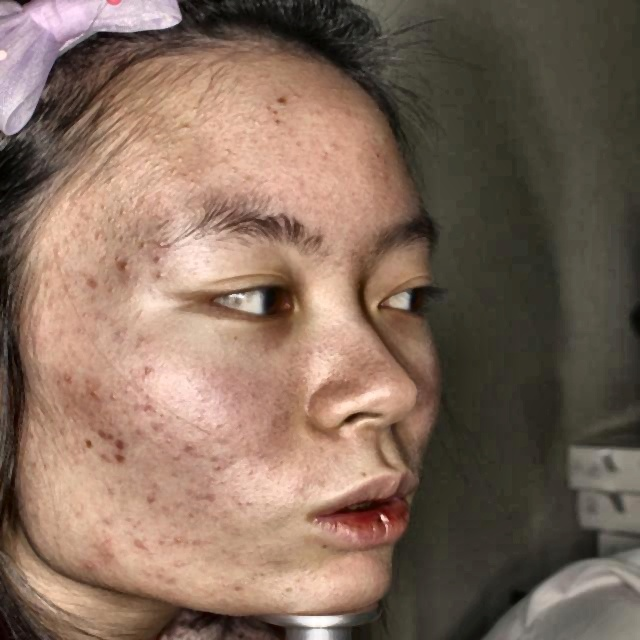comedone: (79, 270, 105, 294), (108, 441, 134, 463), (90, 424, 111, 441), (112, 259, 133, 275)
